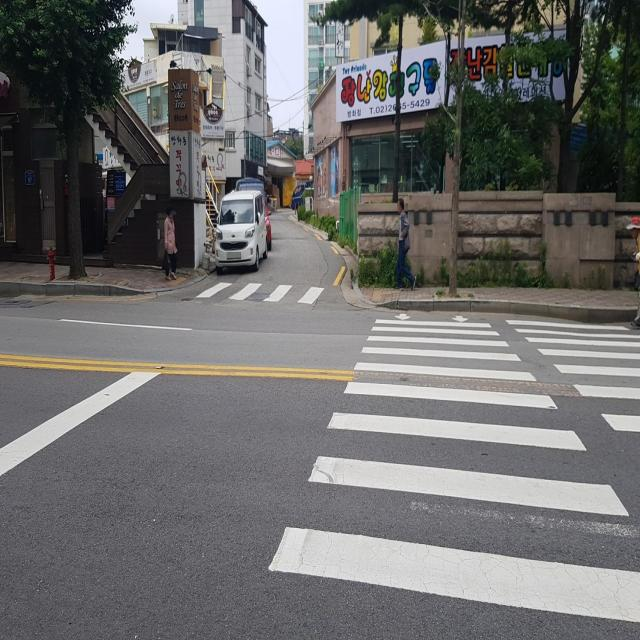횡단보도: (266, 309, 640, 626), (179, 274, 345, 308)
